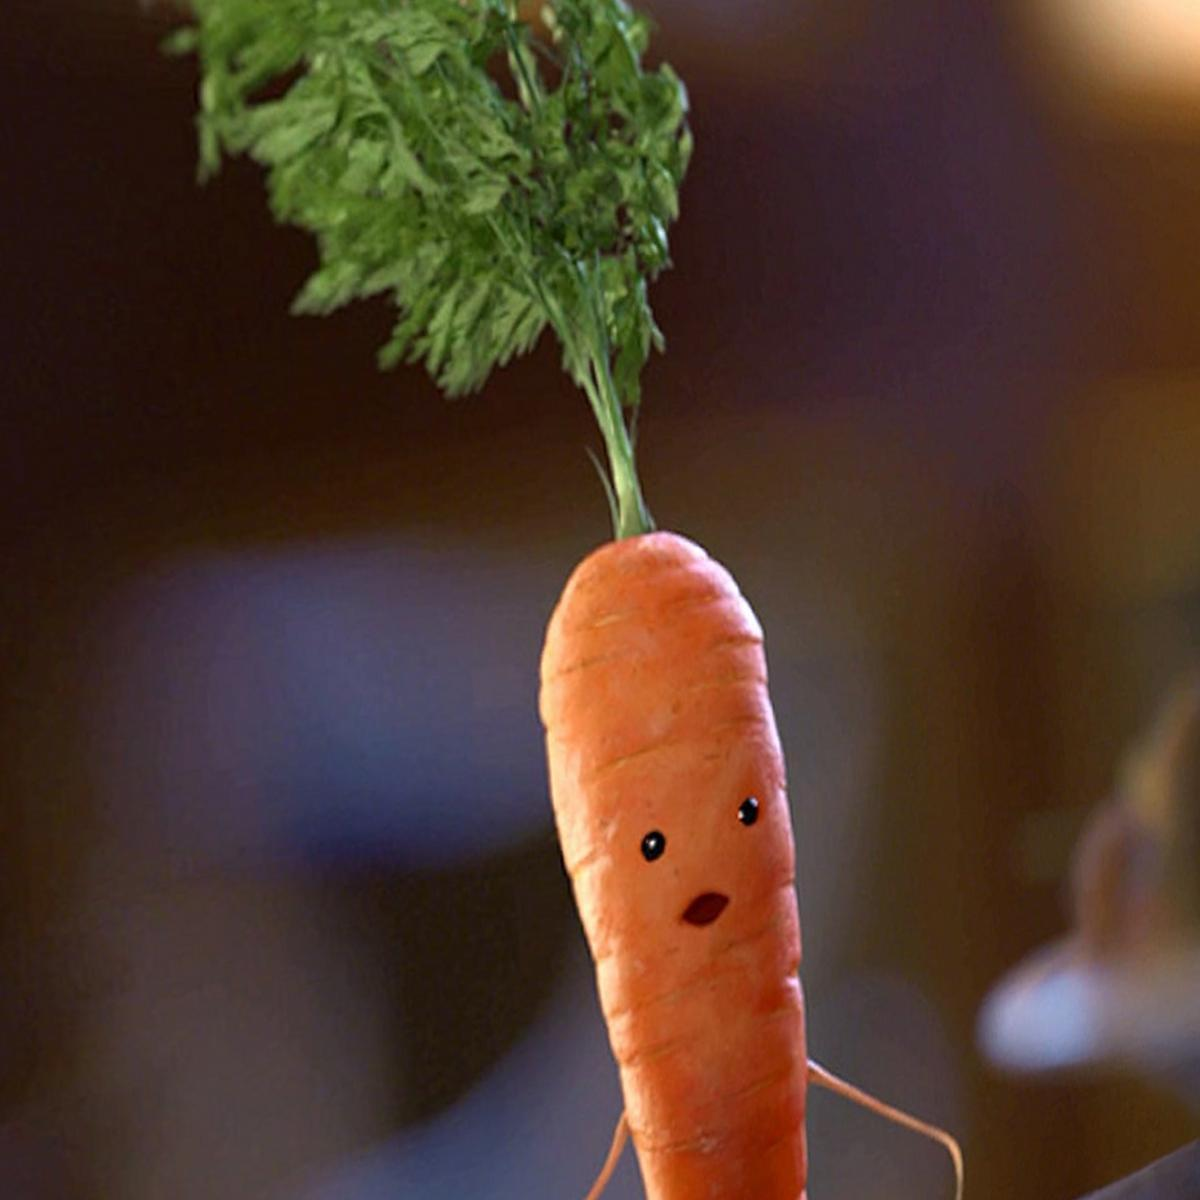carrot: (565, 540, 818, 1200)
